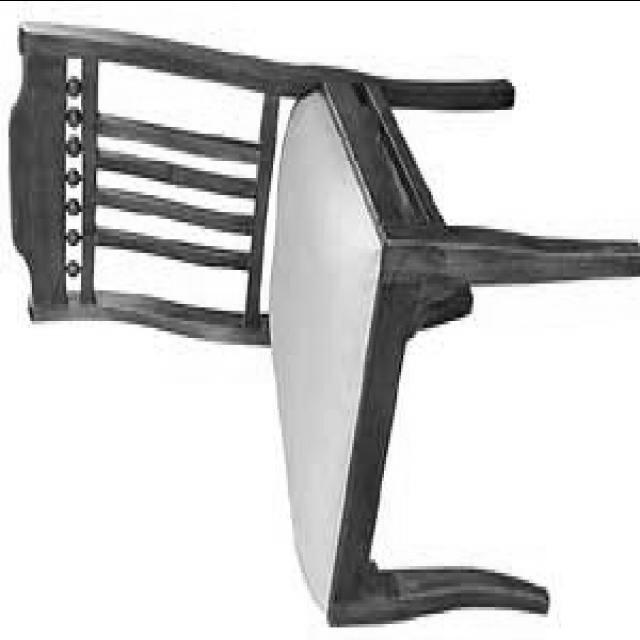chair: (1, 19, 638, 632)
